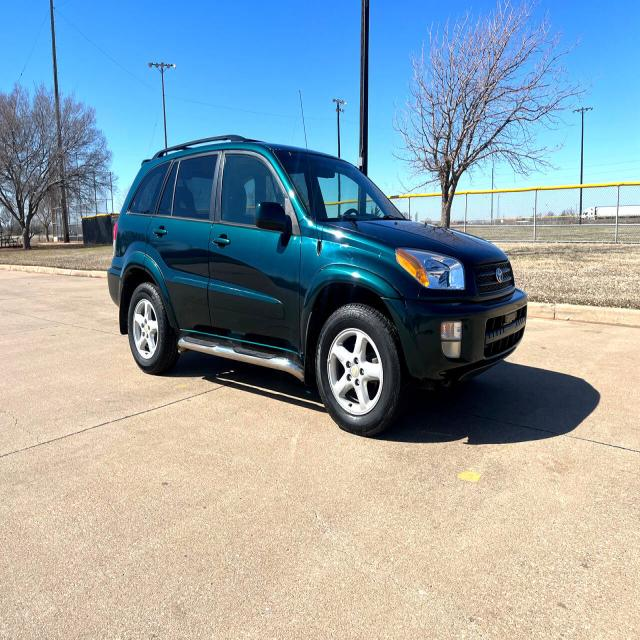light_vehicle: (106, 135, 528, 437)
